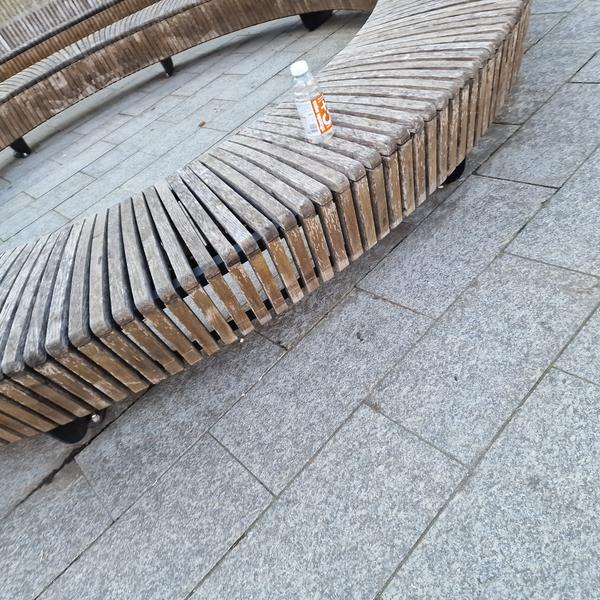plastic_bottle: (284, 55, 338, 148)
